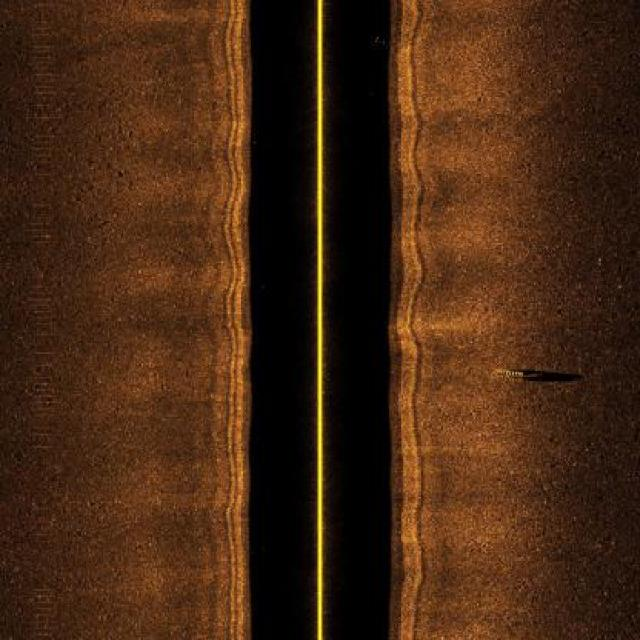other: (490, 368, 585, 383)
